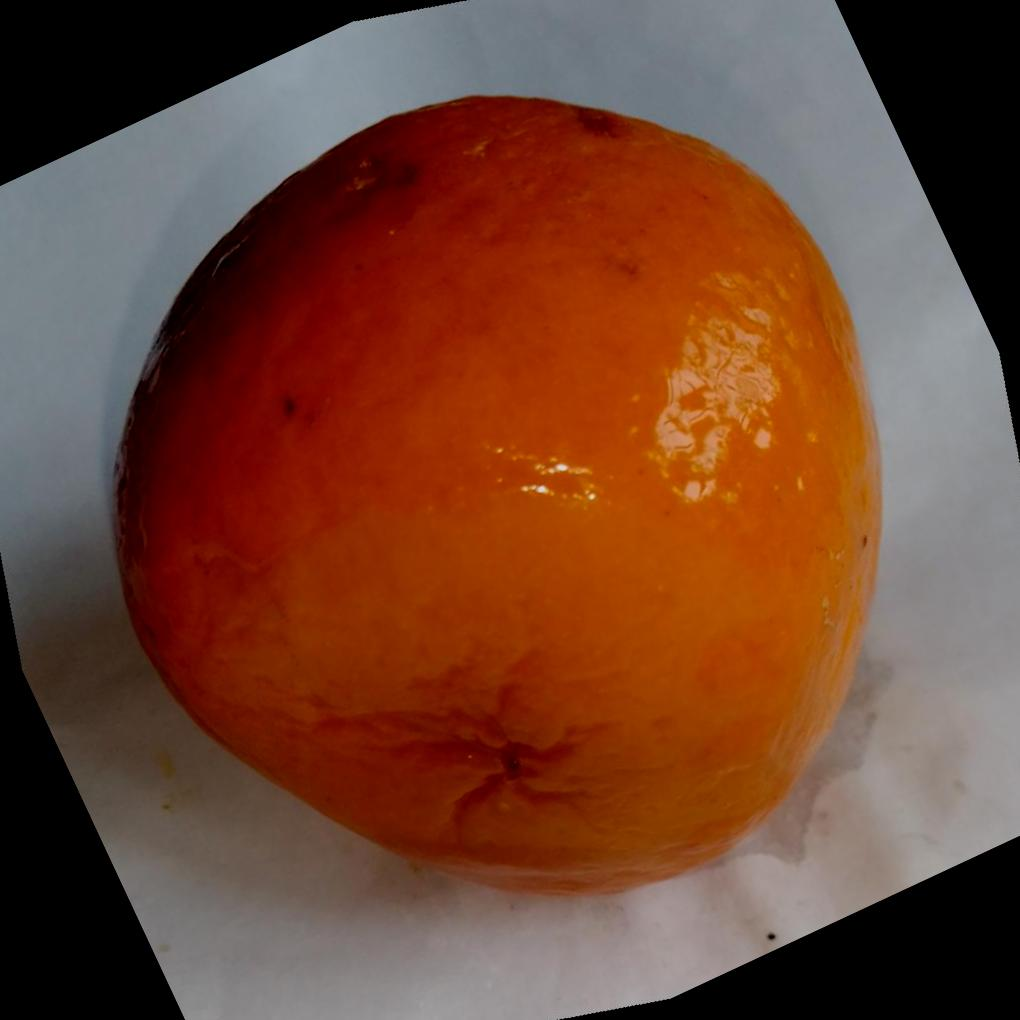FreshOrange: (109, 94, 886, 900)
